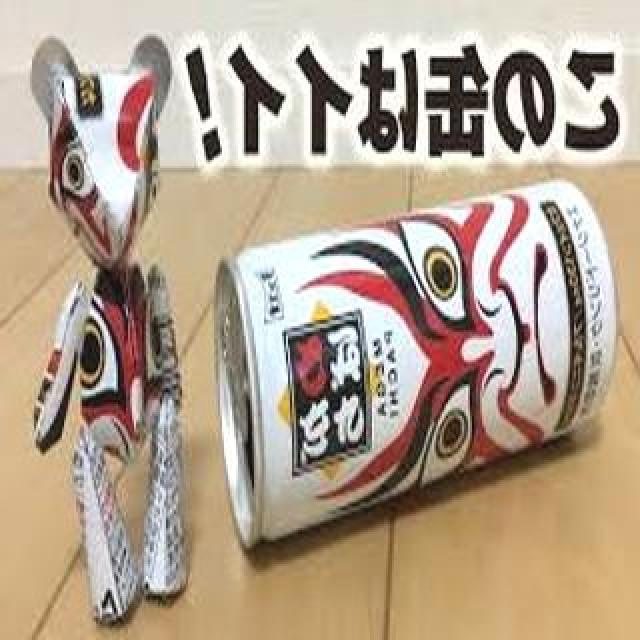Can: (215, 177, 631, 555)
